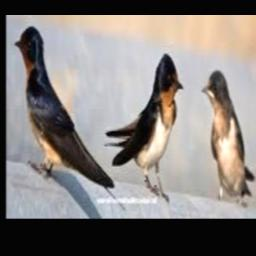Swallow: (14, 26, 115, 188), (105, 54, 184, 202), (203, 72, 255, 200)
